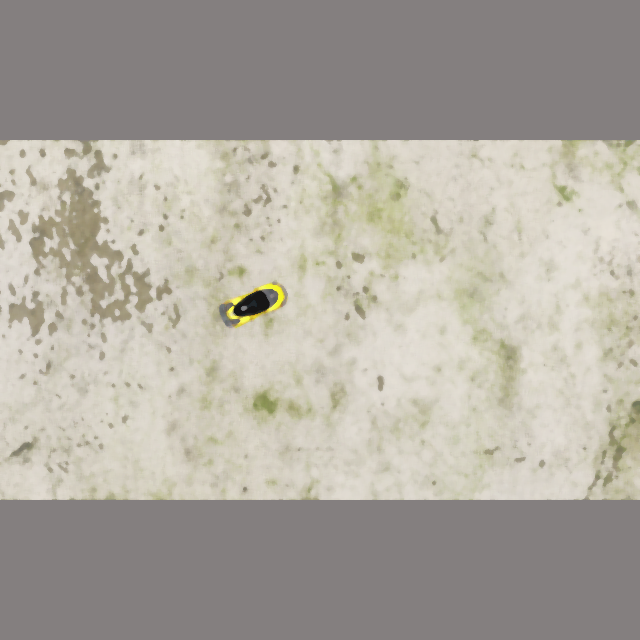car: (214, 277, 289, 332)
